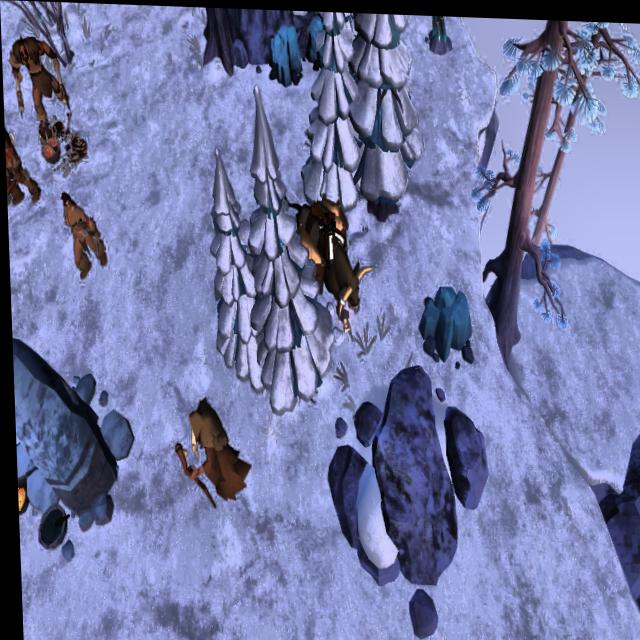enemy_factionKeeper: (178, 395, 247, 511), (8, 36, 72, 127), (57, 192, 111, 281), (4, 123, 39, 210)
ore_t4: (432, 13, 449, 39)
rock_t4: (415, 279, 473, 356), (264, 23, 307, 88), (302, 15, 338, 68)
